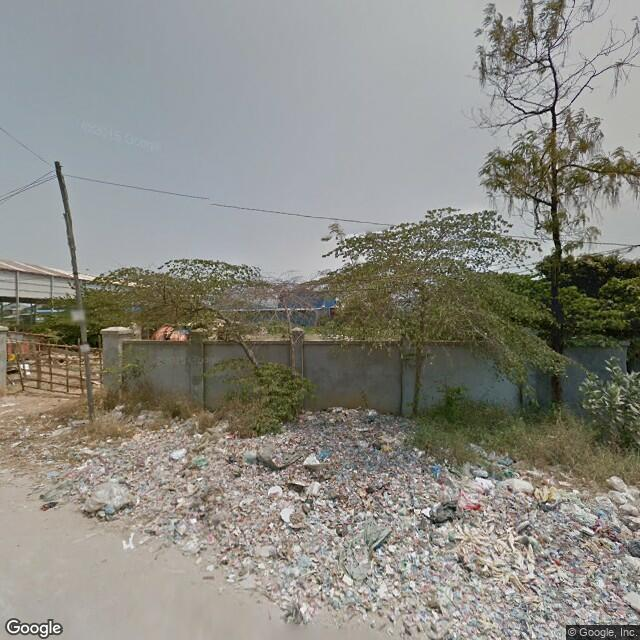litter: (89, 478, 131, 523), (361, 519, 390, 560), (451, 486, 481, 517), (417, 502, 453, 527), (525, 485, 562, 508), (300, 447, 333, 469), (280, 506, 305, 529), (163, 446, 193, 463), (362, 404, 377, 422), (427, 465, 443, 477)
